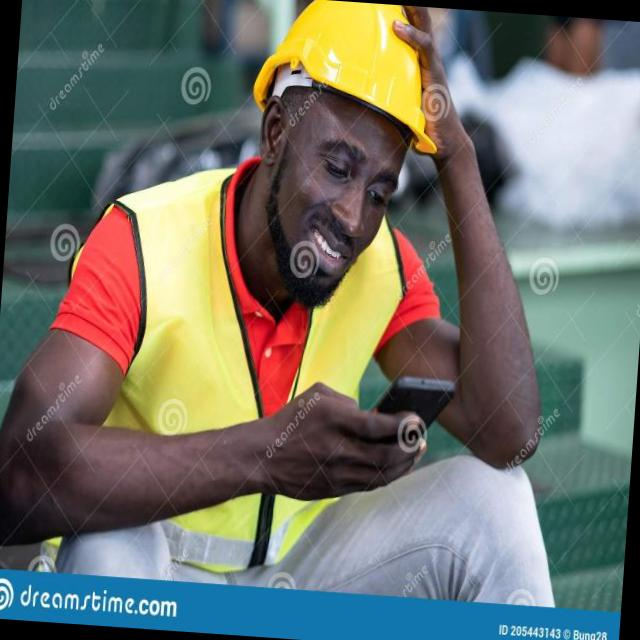Helmet: (226, 0, 483, 149)
Vest: (80, 172, 398, 573)
